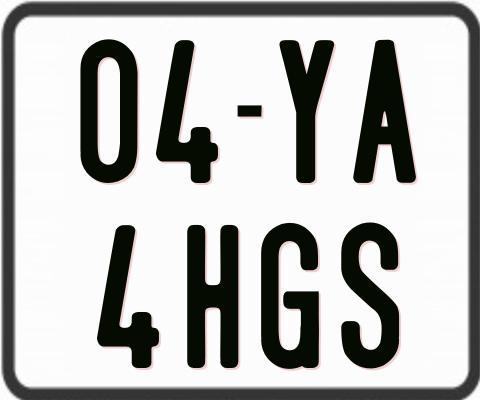0: (79, 36, 140, 182)
4: (156, 40, 222, 185), (94, 223, 156, 367)
A: (351, 37, 414, 181)
G: (260, 222, 324, 370)
H: (187, 223, 238, 370)
S: (339, 220, 401, 367)
Y: (277, 40, 336, 187)
